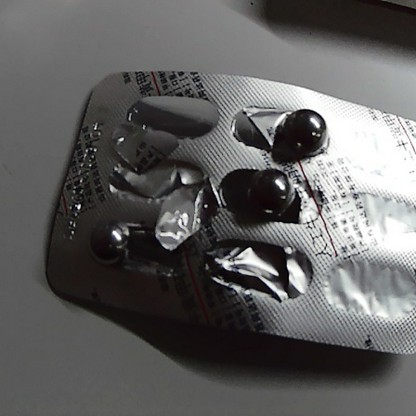ironball: (241, 157, 283, 224), (281, 107, 330, 149)
